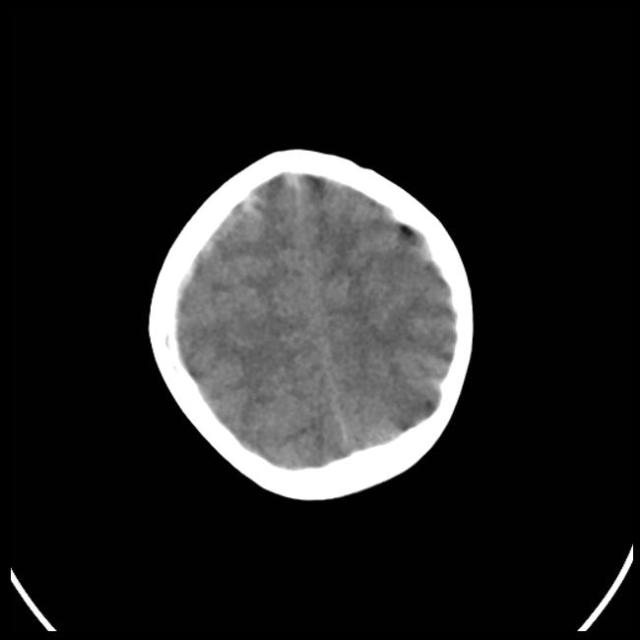lesion: (143, 142, 481, 506)
